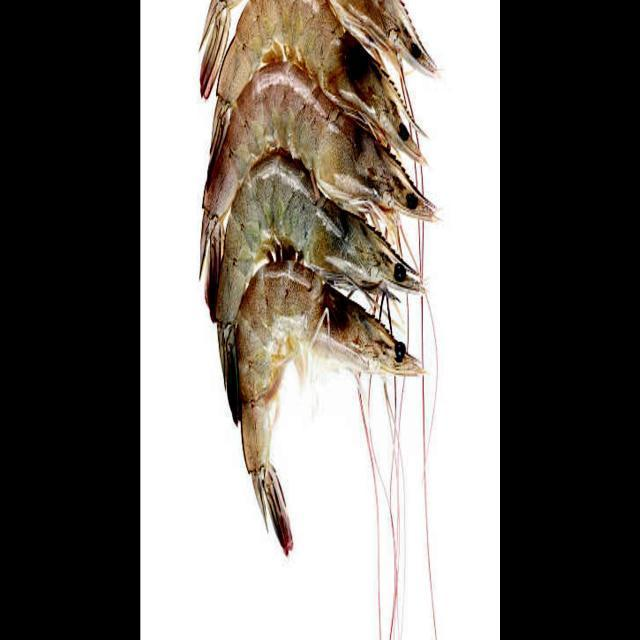shrimp: (201, 63, 436, 307), (213, 155, 423, 421), (236, 260, 423, 549), (212, 0, 424, 162), (328, 0, 436, 76)
